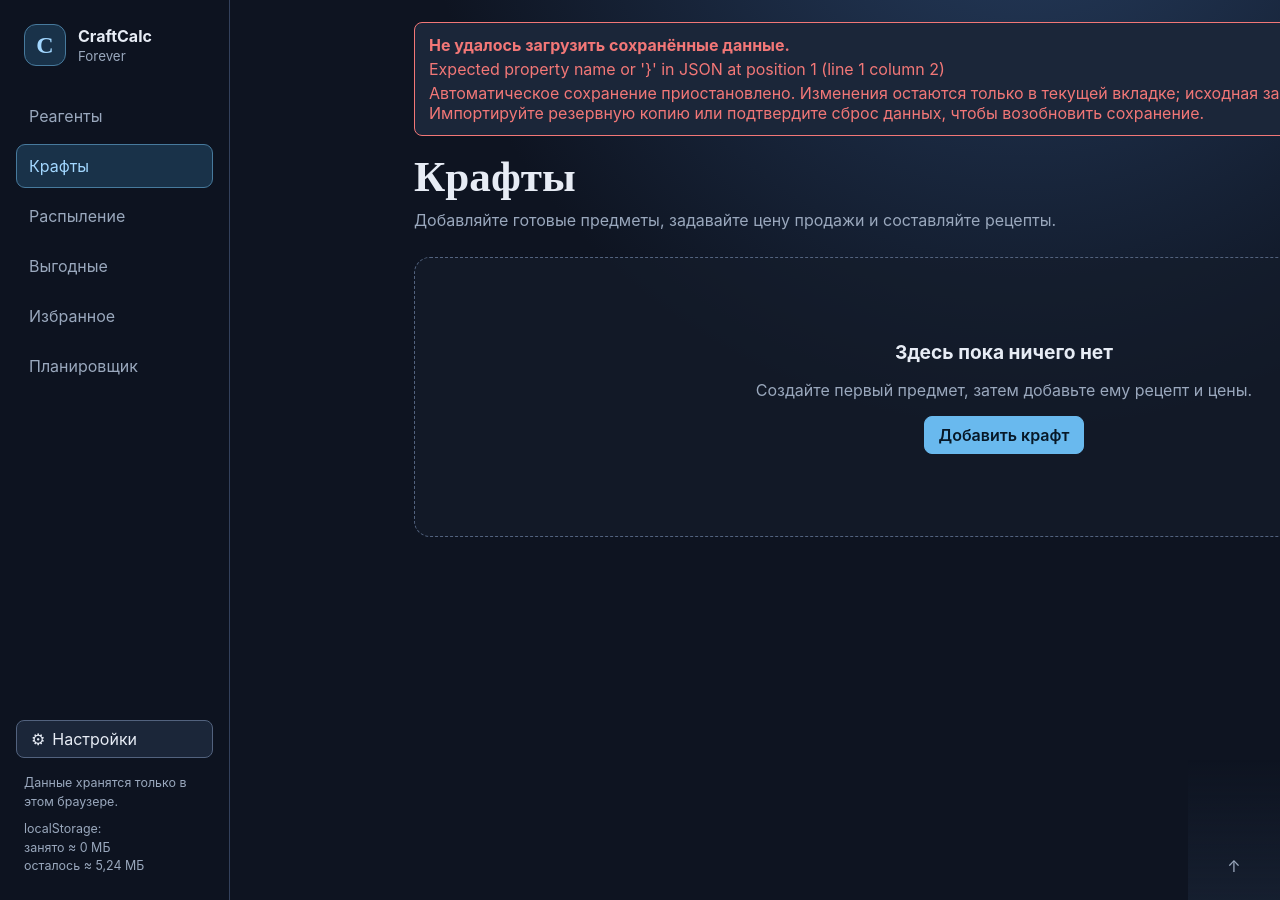
Test case: восстановление сохранения в App › сообщает об отказе записи без ложного успеха: сброс
Click the button "⚙ Настройки": coordinates (114, 739) left=16, top=720, right=213, bottom=758
(page scrolled)
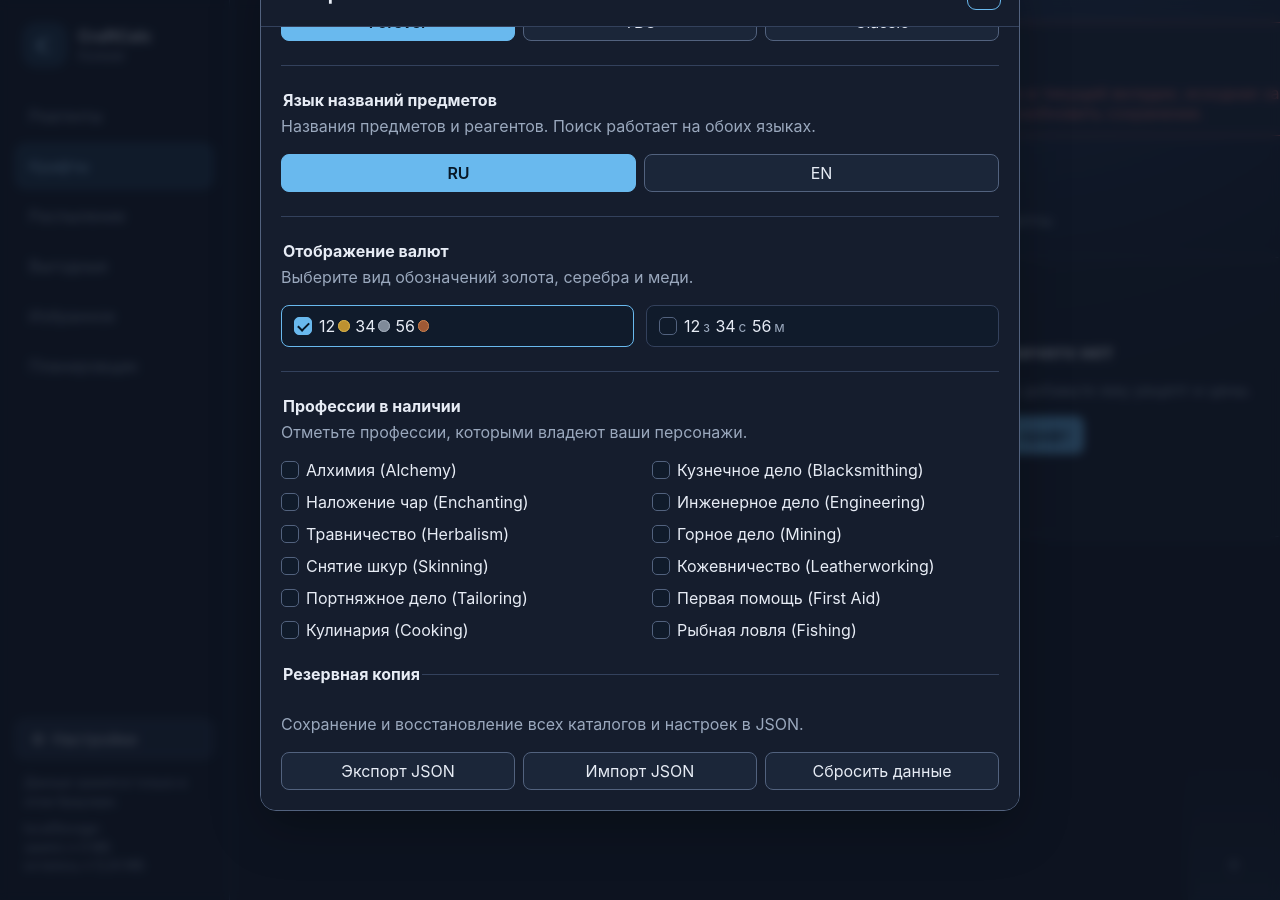
Click the button "Сбросить данные": coordinates (882, 771) left=765, top=752, right=999, bottom=790
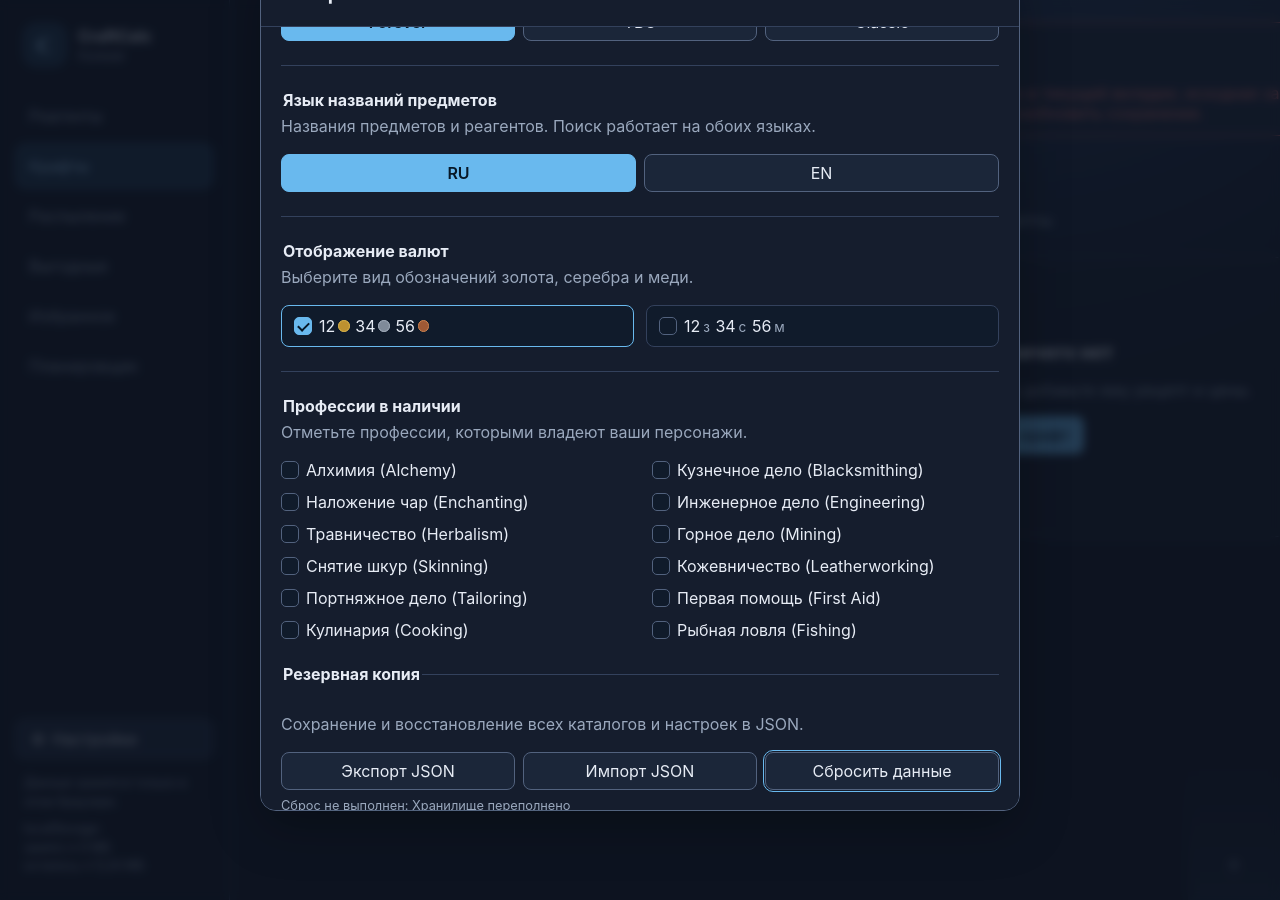
Check: the text "Сброс не выполнен: Хранилище переполнено" is shown, box left=281, top=798, right=570, bottom=811
